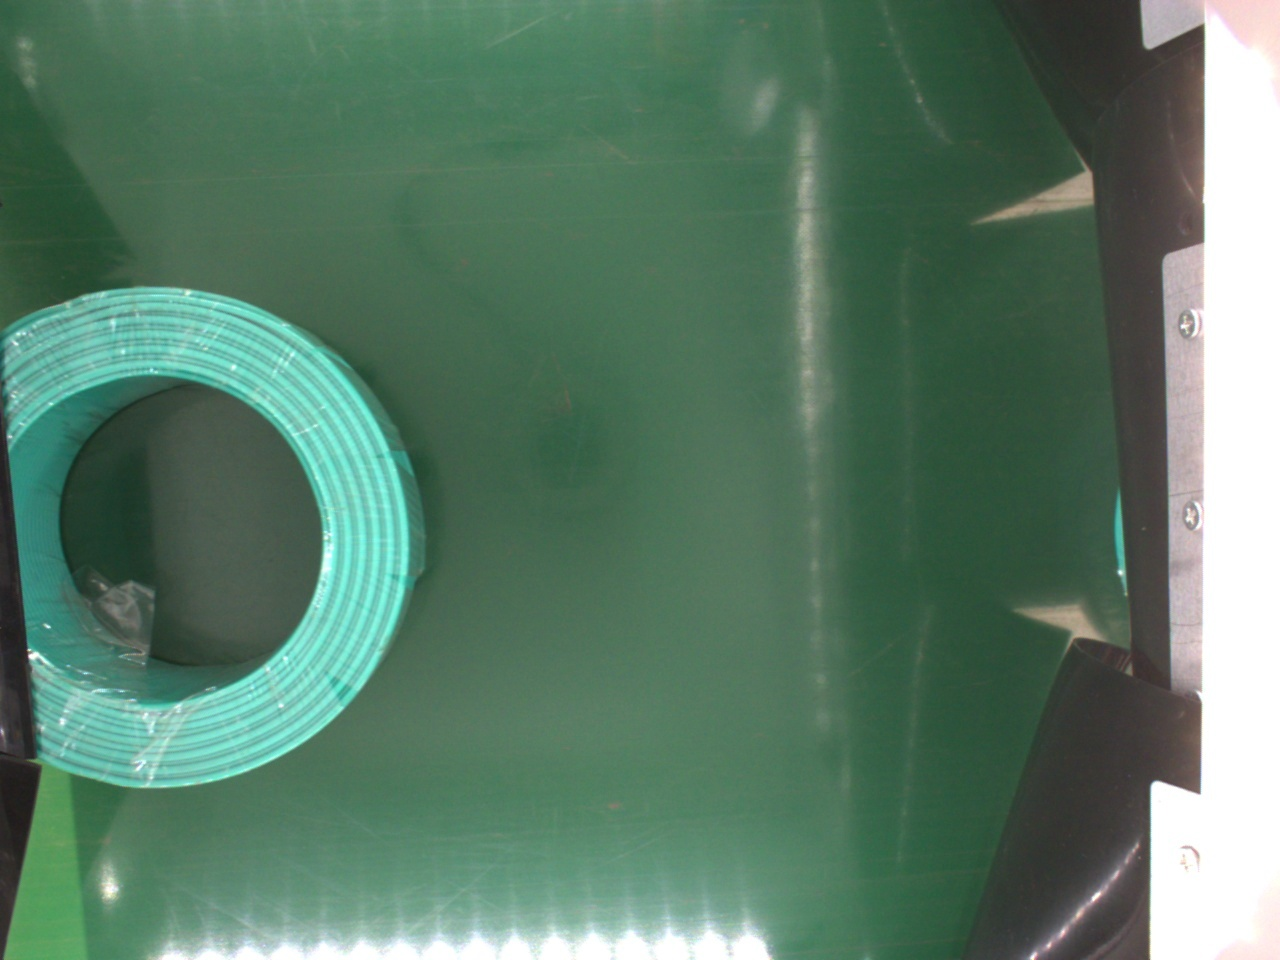green: (6, 285, 427, 791)
